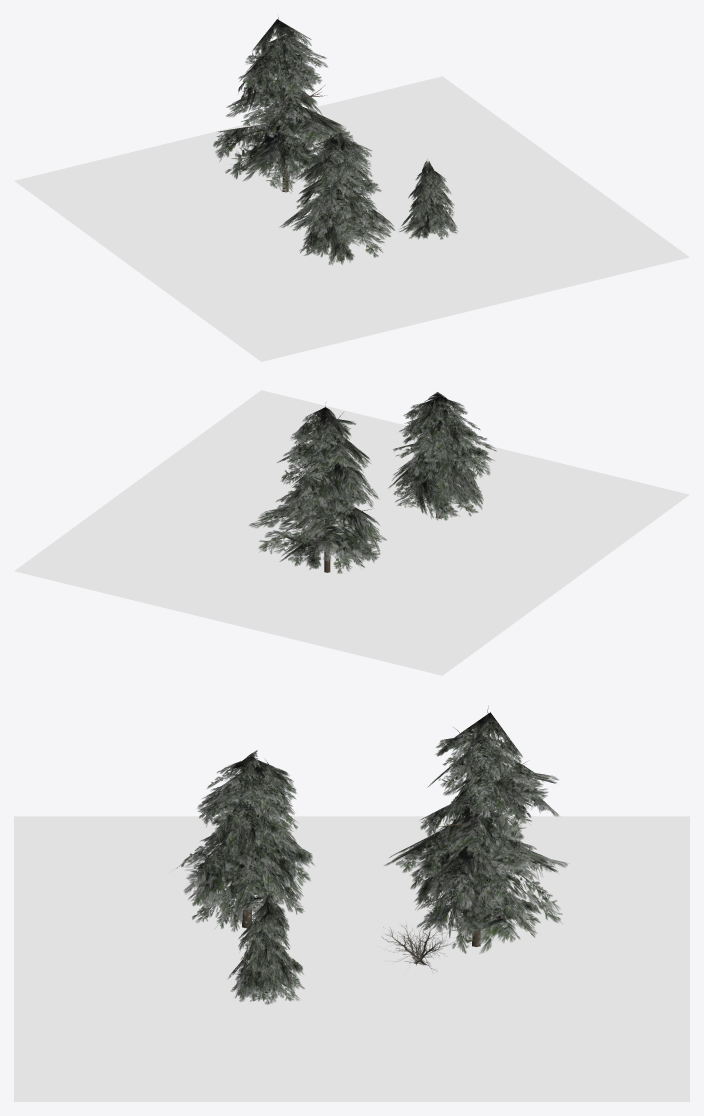
Rendered from snow-pine-pack.glb.
The picture shows the model from 3 angles, top to bottom: view 1: azimuth 30°, elevation 25°; view 2: azimuth 150°, elevation 25°; view 3: azimuth 270°, elevation 25°; orthographic projection. The views are drawn at different scales.
Parts seen in each view (by area): view 1: Plane, SnowTree2, SnowTree1, SnowTree1.001; view 2: Plane, SnowTree2, SnowTree1; view 3: Plane, SnowTree2, SnowTree1, SnowTree1.001, BushBare1.
Boxes of the visible parts, box(x1,y1,x2,y2) form: Plane: box(14, 76, 689, 361); SnowTree2: box(213, 17, 353, 193); SnowTree1: box(279, 129, 395, 265); SnowTree1.001: box(399, 159, 458, 239); Plane: box(14, 390, 689, 675); SnowTree2: box(249, 403, 386, 573); SnowTree1: box(388, 392, 496, 520); Plane: box(14, 816, 689, 1101); SnowTree2: box(384, 706, 569, 953); SnowTree1: box(176, 750, 314, 931); SnowTree1.001: box(228, 893, 304, 1004); BushBare1: box(377, 921, 454, 971).
Size of the model in its own units: 18.27 by 7.95 by 18.27.
Materials: 4 (2 with a texture image).
